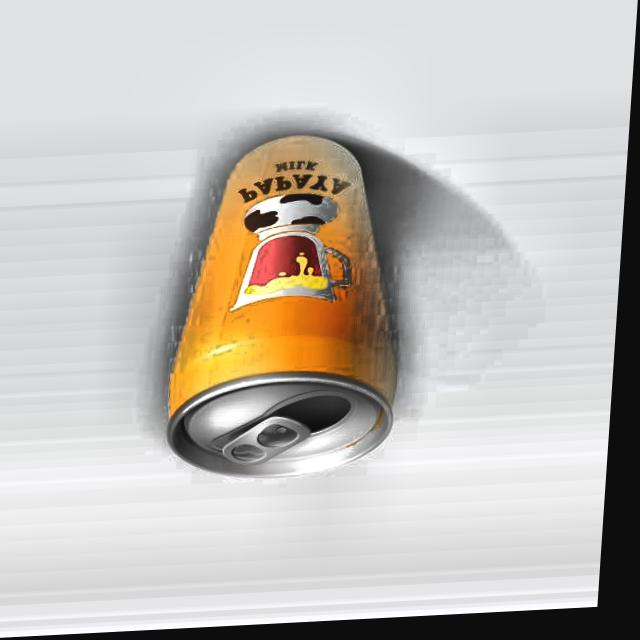can: (165, 124, 424, 494)
